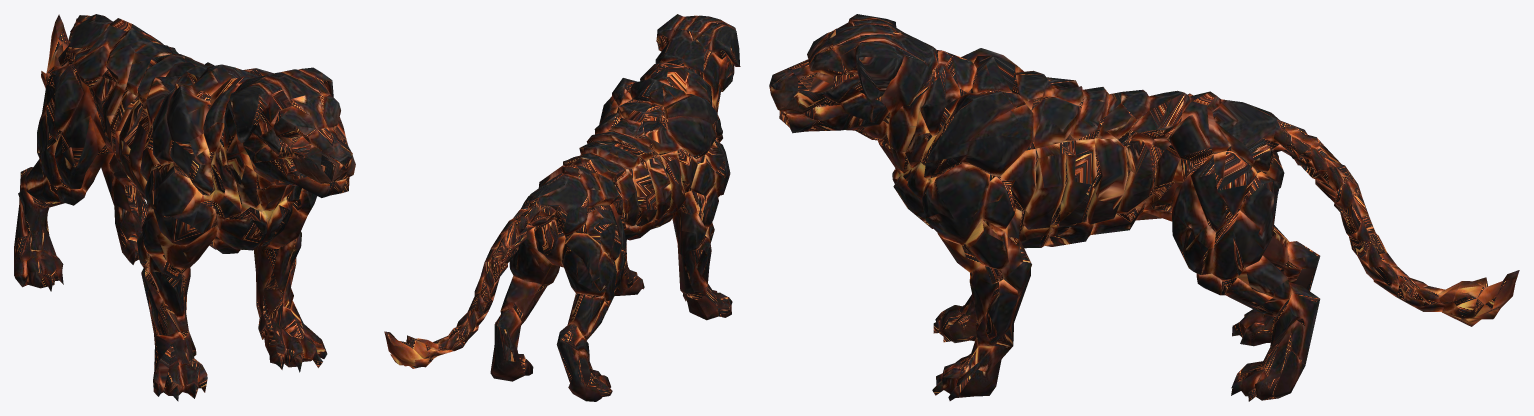
The model's file is magma_hound.glb.
The picture shows the model from 3 angles, left to right: view 1: azimuth 30°, elevation 25°; view 2: azimuth 150°, elevation 25°; view 3: azimuth 270°, elevation 25°; orthographic projection. The views are drawn at different scales.
Parts seen in each view (by area): view 1: Mesh_0; view 2: Mesh_0; view 3: Mesh_0.
Boxes of the visible parts, x1=… form: Mesh_0: x1=14, y1=14, x2=355, y2=401; Mesh_0: x1=384, y1=14, x2=740, y2=401; Mesh_0: x1=769, y1=14, x2=1519, y2=401.
Bounding box in the file's own units: 0.5323 × 0.9482 × 1.9.
Materials: 1 (1 with a texture image).
